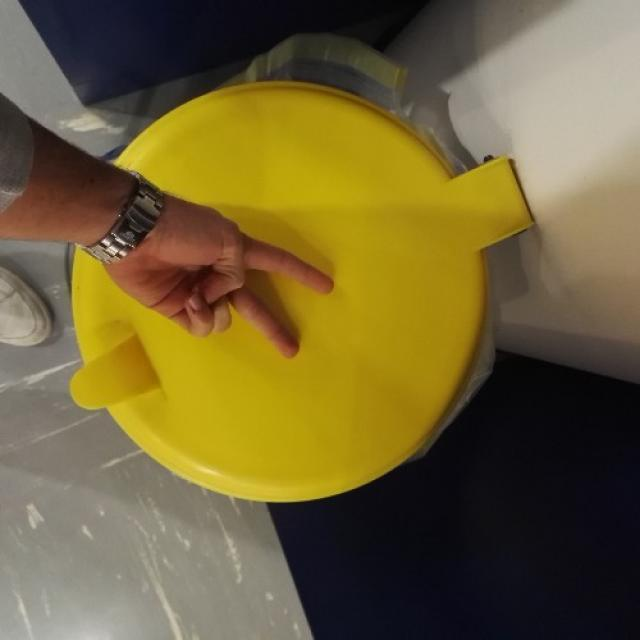scissors: (144, 214, 336, 360)
